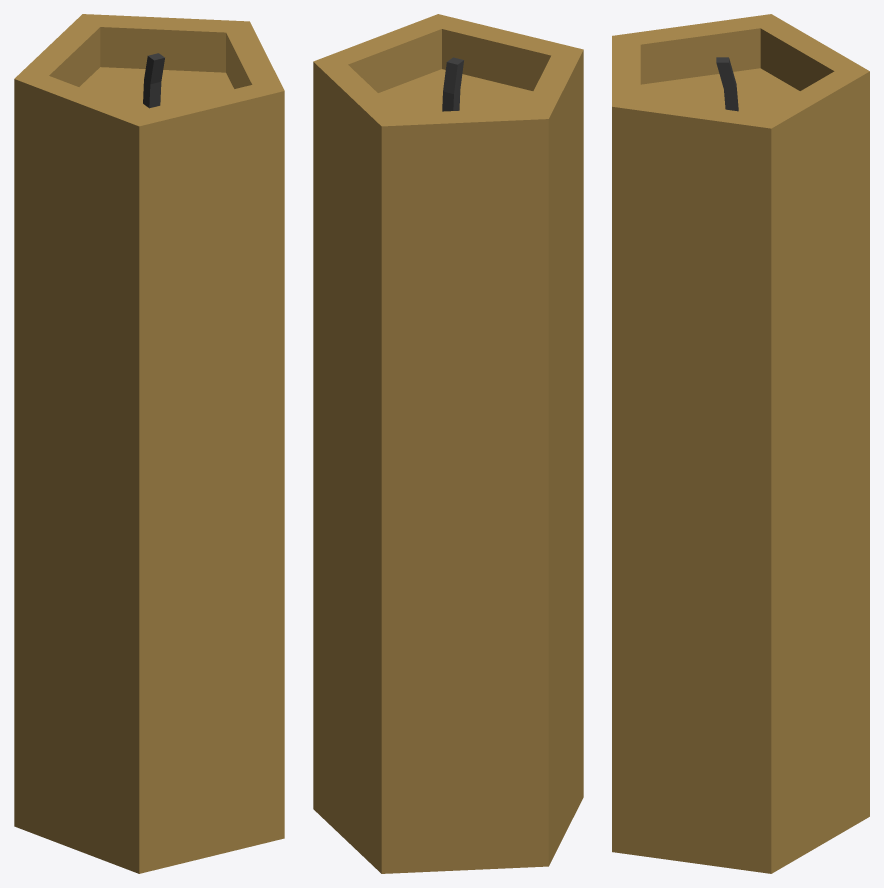
File: Candle_1.fbx
3 renders of one model, left to right at view 1: azimuth 30°, elevation 25°; view 2: azimuth 150°, elevation 25°; view 3: azimuth 270°, elevation 25°, orthographic.
Visible parts, largest first — view 1: Cylinder; view 2: Cylinder; view 3: Cylinder.
Part boxes in pixels (x1,y1,x2,y2): Cylinder: (14,14,284,873); Cylinder: (313,14,583,873); Cylinder: (612,14,869,873).
Bounding box in the file's own units: 7.87 × 24.24 × 7.49.
